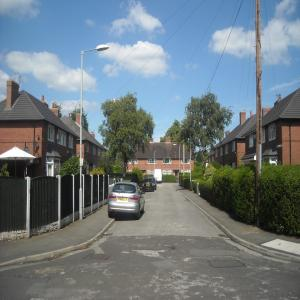Vehicle-registration-plate: (118, 199, 129, 202)
